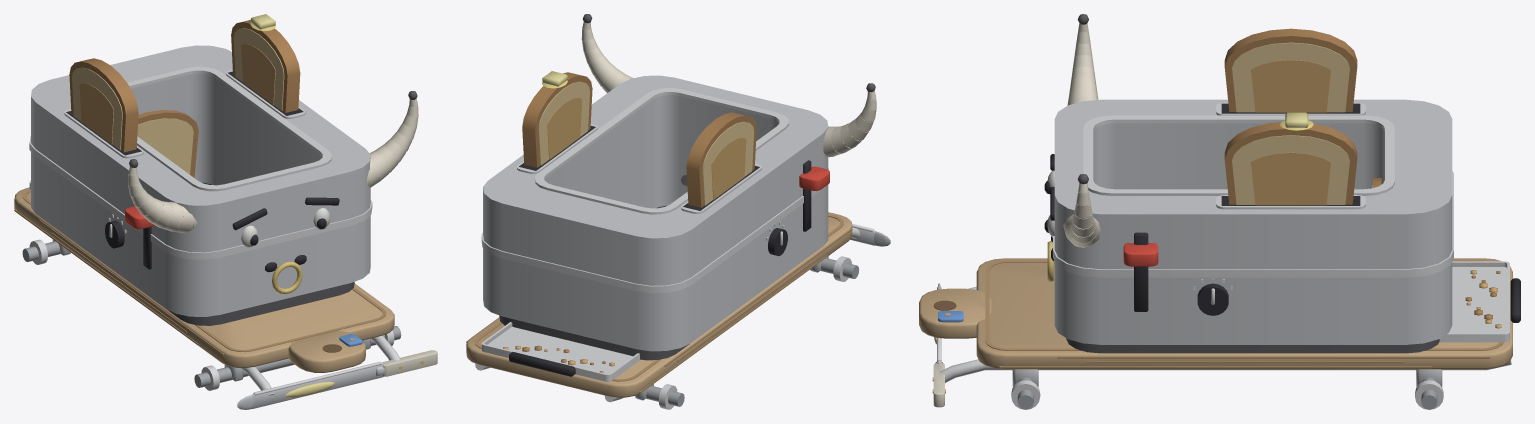
The model's file is toaster.glb.
The picture shows the model from 3 angles, left to right: view 1: azimuth 30°, elevation 25°; view 2: azimuth 150°, elevation 25°; view 3: azimuth 270°, elevation 25°; orthographic projection. The views are drawn at different scales.
Parts seen in each view (by area): view 1: toaster, toaster_wreck; view 2: toaster, toaster_wreck; view 3: toaster, toaster_wreck.
Part boxes in pixels (x1,y1,x2,y2): toaster: (14, 14, 437, 409); toaster_wreck: (14, 181, 437, 409); toaster: (466, 14, 885, 409); toaster_wreck: (466, 161, 890, 409); toaster: (919, 14, 1520, 409); toaster_wreck: (919, 241, 1520, 409).
Bounding box in the file's own units: 1.36 × 1.1 × 2.09.
